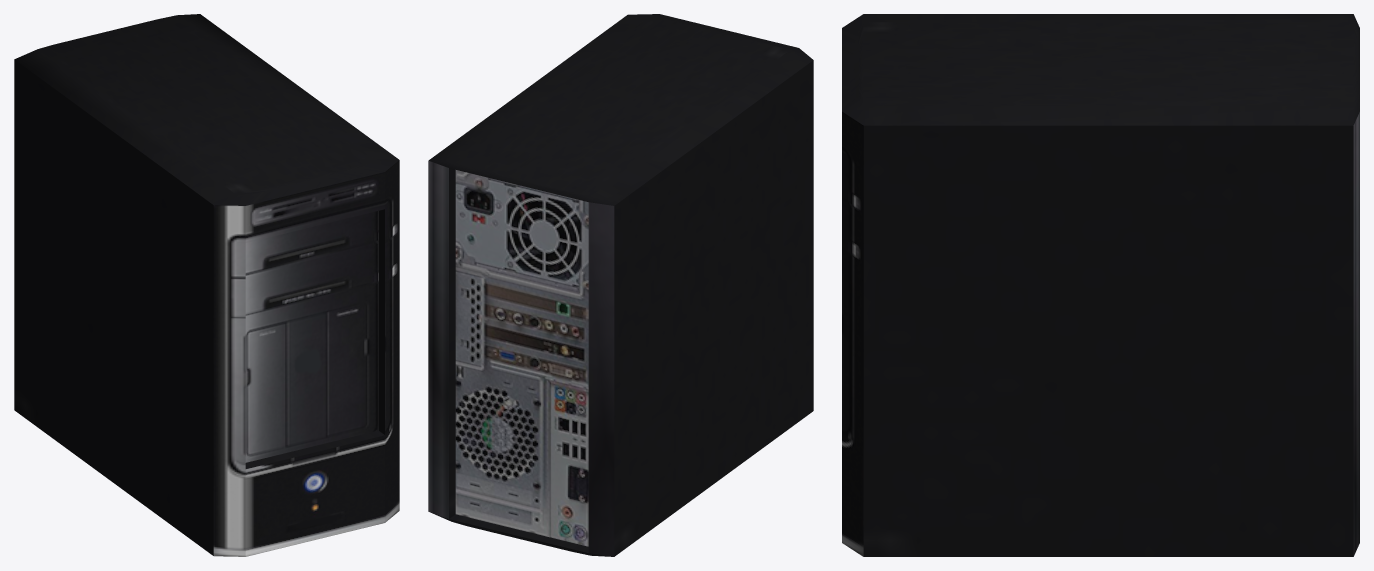
File: CPU1.FBX
3 renders of one model, left to right at view 1: azimuth 30°, elevation 25°; view 2: azimuth 150°, elevation 25°; view 3: azimuth 270°, elevation 25°, orthographic. The views are drawn at different scales.
Visible parts, largest first — view 1: CPU1; view 2: CPU1; view 3: CPU1.
Part boxes in pixels (x1=…): CPU1: x1=14, y1=14, x2=399, y2=556; CPU1: x1=428, y1=14, x2=813, y2=556; CPU1: x1=842, y1=14, x2=1359, y2=556.
Size of the model in its own units: 7.05 by 13.03 by 13.82.
